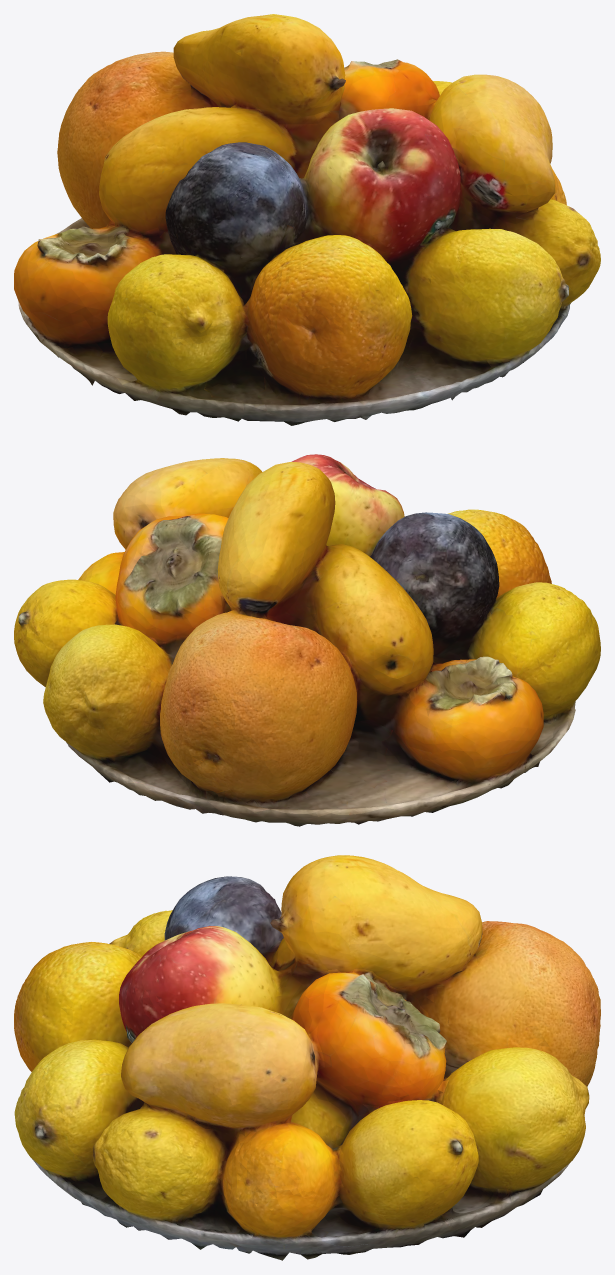
File: 静物_瓶罐_plate_of_fruit_opt.glb
The picture shows the model from 3 angles, top to bottom: view 1: azimuth 30°, elevation 25°; view 2: azimuth 150°, elevation 25°; view 3: azimuth 270°, elevation 25°; orthographic projection. The views are drawn at different scales.
Visible parts, largest first — view 1: Object_4; view 2: Object_4; view 3: Object_4.
Part boxes in pixels (left/top/right/bottom): Object_4: left=14, top=14, right=600, bottom=425; Object_4: left=14, top=454, right=600, bottom=826; Object_4: left=14, top=855, right=600, bottom=1260.
Bounding box in the file's own units: 0.2783 × 0.149 × 0.2724.
Materials: 1 (1 with a texture image).
